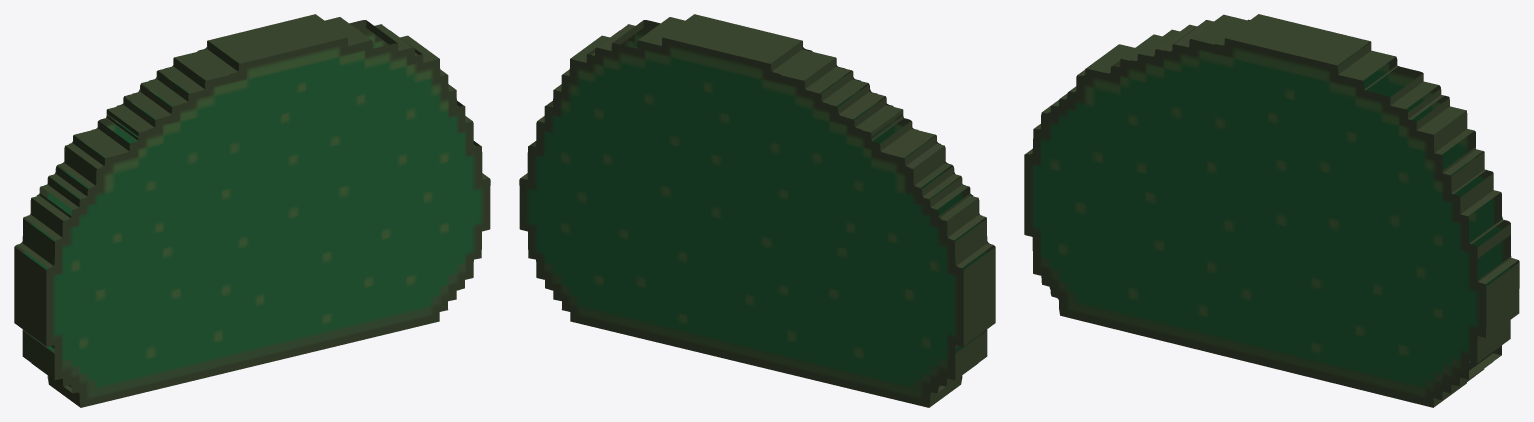
The model's file is Bush_02.fbx.
3 views of the same model, side by side, from view 1: azimuth 30°, elevation 25°; view 2: azimuth 150°, elevation 25°; view 3: azimuth 330°, elevation 25° (orthographic). The views are drawn at different scales.
Parts seen in each view (by area): view 1: objec-5_3000px.003; view 2: objec-5_3000px.003; view 3: objec-5_3000px.003.
Boxes of the visible parts, x1,y1,x2,y2 form: objec-5_3000px.003: [14, 14, 490, 407]; objec-5_3000px.003: [519, 14, 995, 407]; objec-5_3000px.003: [1024, 14, 1519, 407].
Size of the model in its own units: 17.65 by 11.64 by 2.2.
